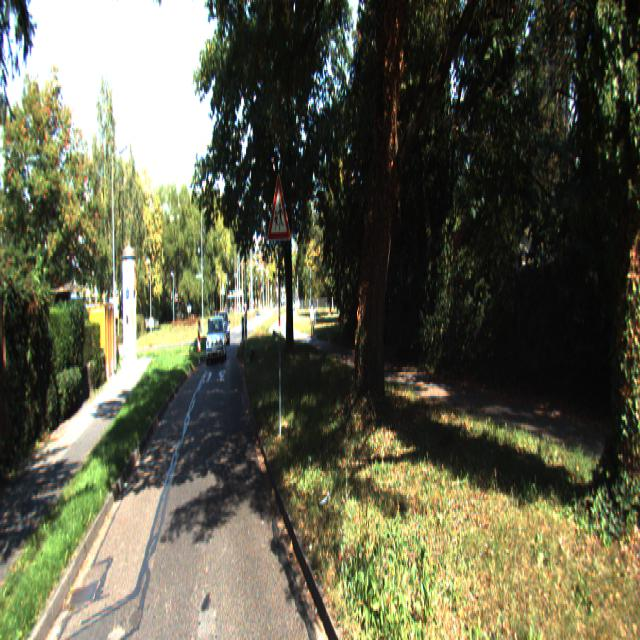Car: (205, 312, 225, 363)
